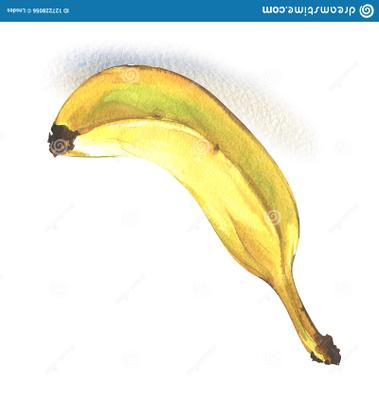banana: (0, 0, 379, 400)
